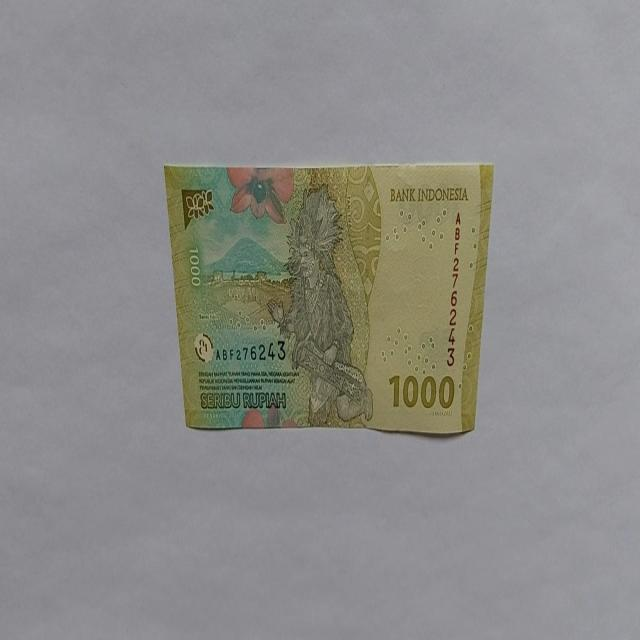seribu rupiah kertas: (163, 161, 494, 435)
